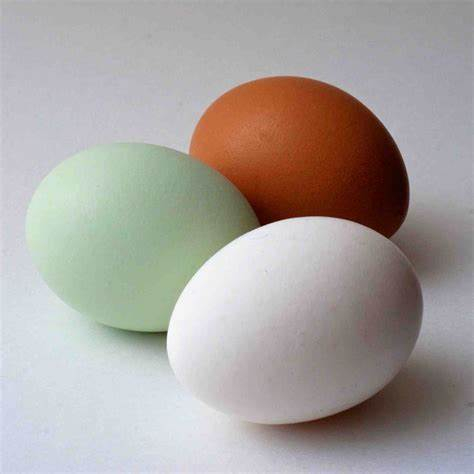egg: (159, 209, 434, 436), (14, 134, 271, 357), (188, 72, 415, 277)
